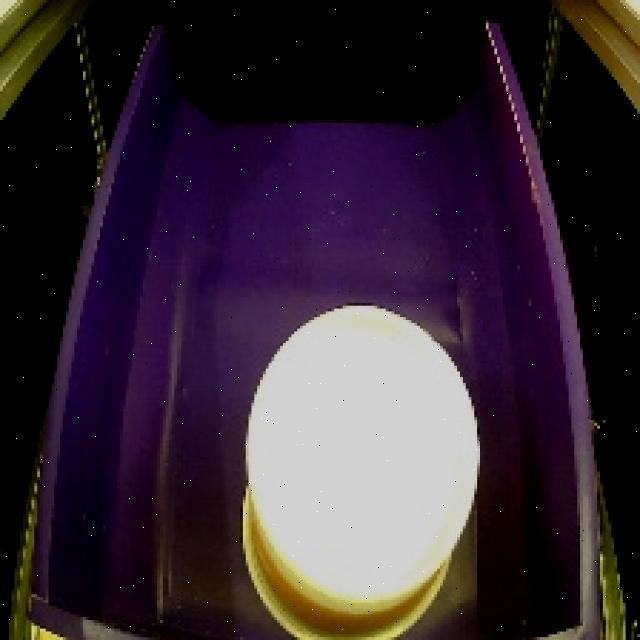cups: (227, 288, 491, 640)
